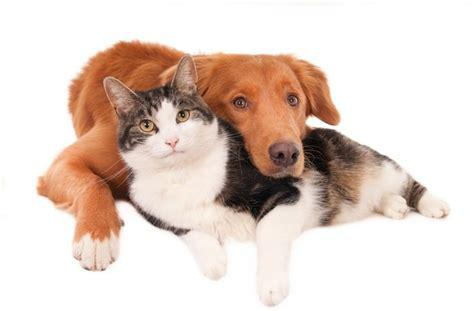cat: (103, 54, 447, 306)
dog: (40, 42, 339, 269)
